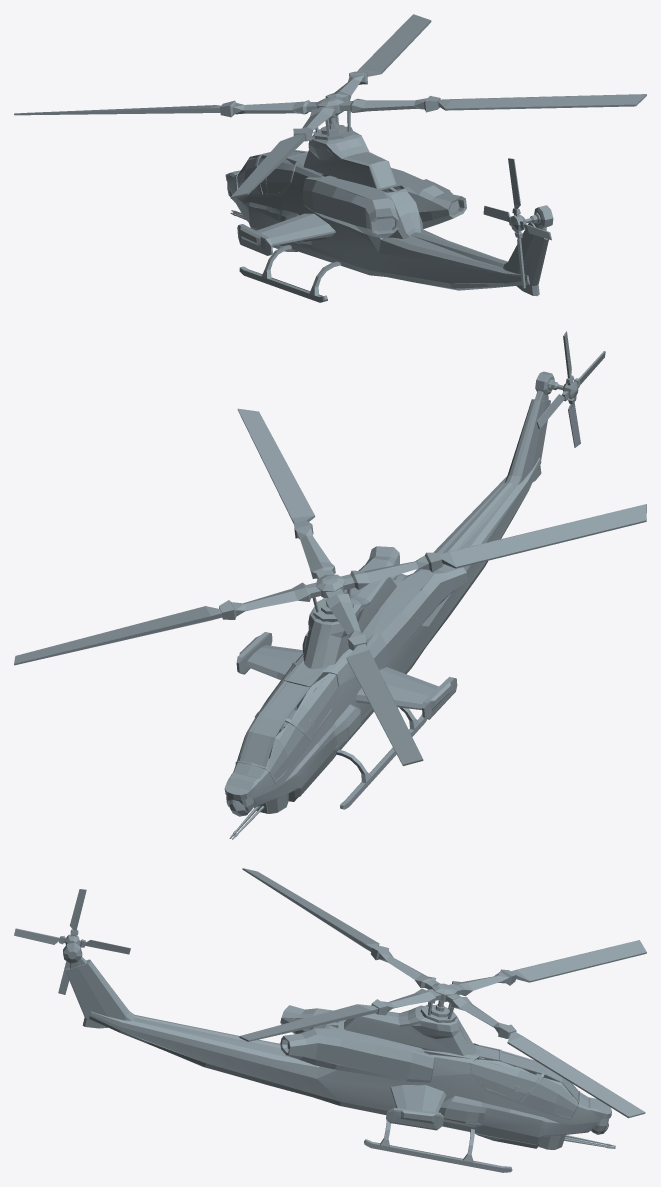
File: model-aircraft-hh-1.glb
The picture shows the model from 3 angles, top to bottom: view 1: azimuth 30°, elevation 25°; view 2: azimuth 150°, elevation 25°; view 3: azimuth 270°, elevation 25°; orthographic projection. The views are drawn at different scales.
Bounding box in the file's own units: 25.9 × 17.23 × 39.41.
